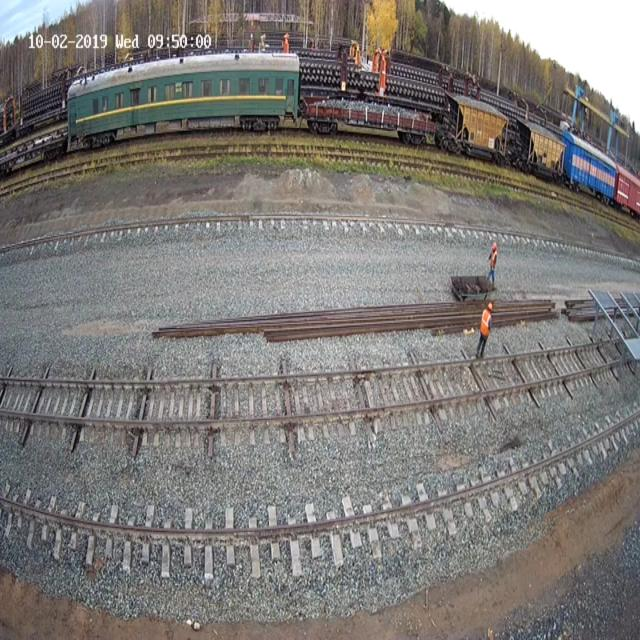Person: (475, 301, 494, 358), (488, 242, 498, 287)
